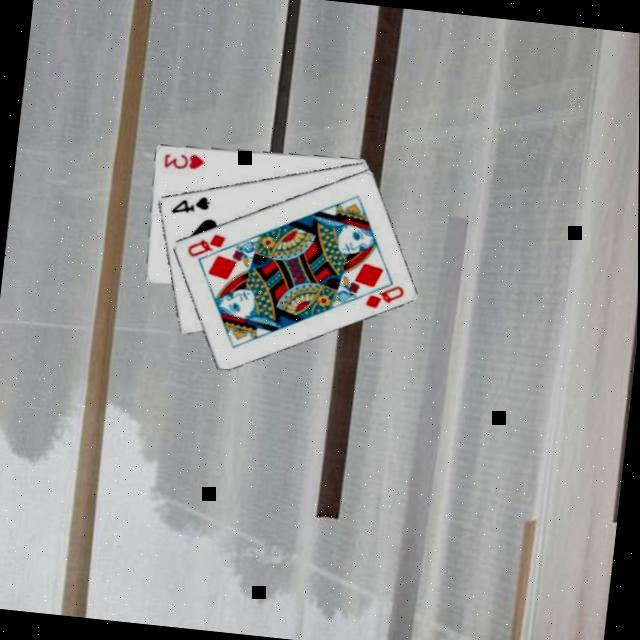3H: (157, 148, 205, 175)
4S: (166, 190, 211, 220)
QD: (180, 228, 226, 263), (359, 280, 405, 315)
